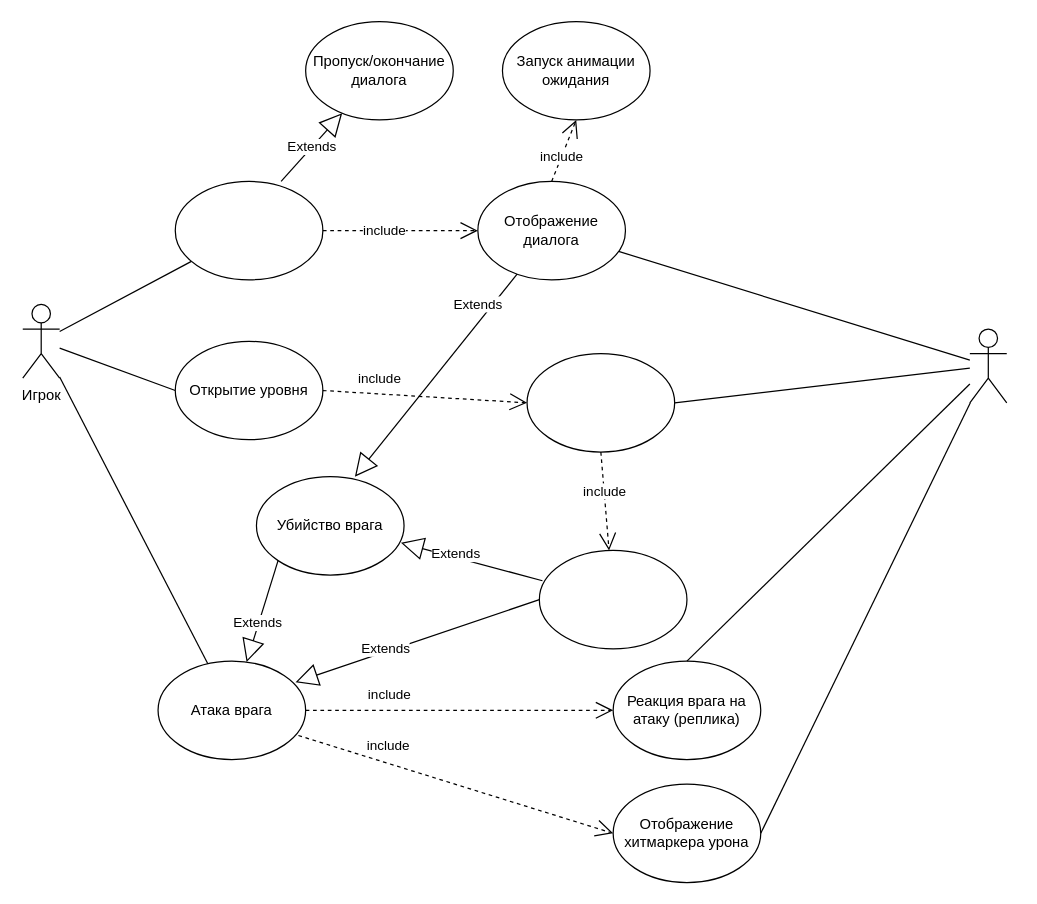
This 1037x904 diagram has some shape labels left out. The shapes that lost their labels are listed below. From the top down, each one's centre as x and y in pixels, then its label:
At [248,230]: "Просмотр диалога".
At [988,365]: "система".
At [600,402]: "Загрузка уровня".
At [612,599]: "Спавн врага".
